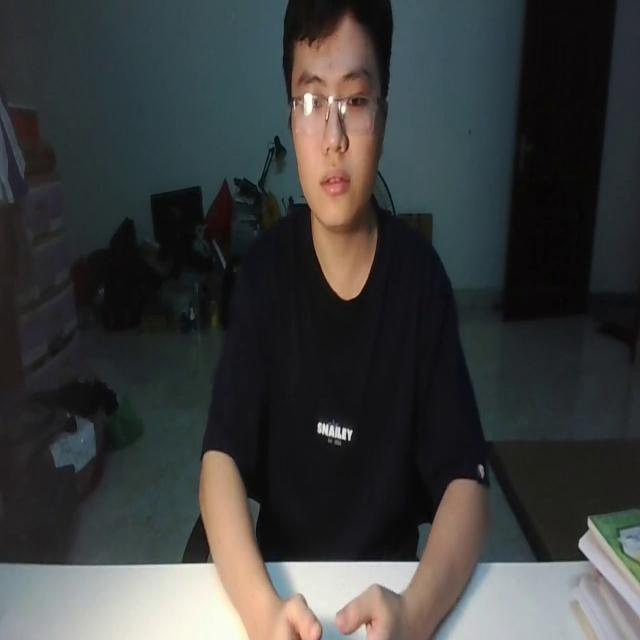student: (196, 0, 491, 640)
